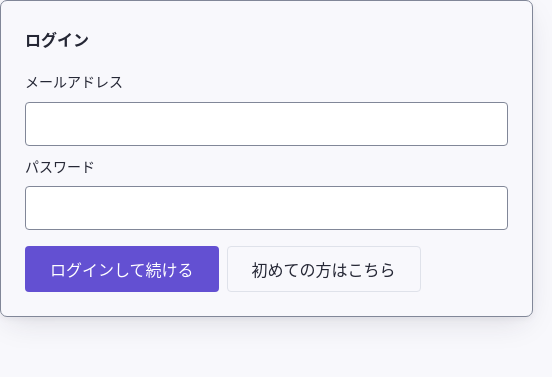
Scenario: AuthPanel › shows a generic failure without exposing provider or account-enumeration details
The width and height of the screenshot is (552, 377).
Type "private-person@example.com" into the field labelled "メールアドレス" at (266, 124), box [25,102,508,146]
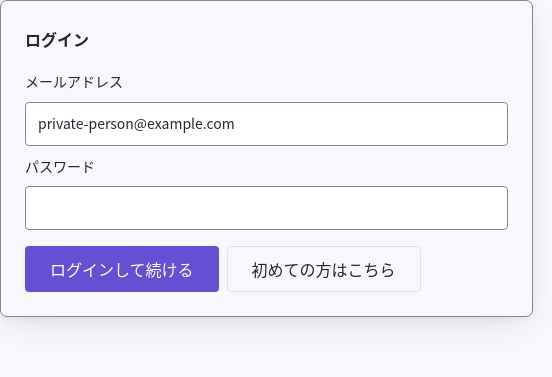
Type "wrong-password" into the password field labelled "パスワード" at (266, 208), box [25,186,508,230]
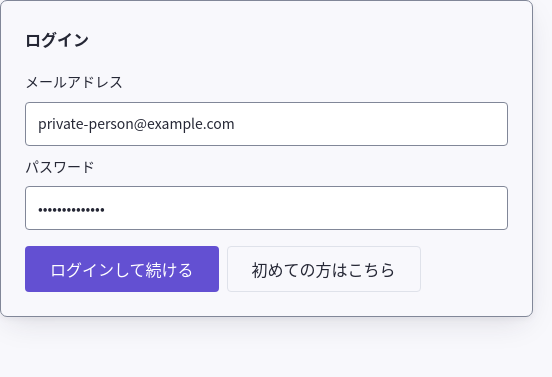
Click the button "ログインして続ける" at (122, 269), box [25,246,218,292]
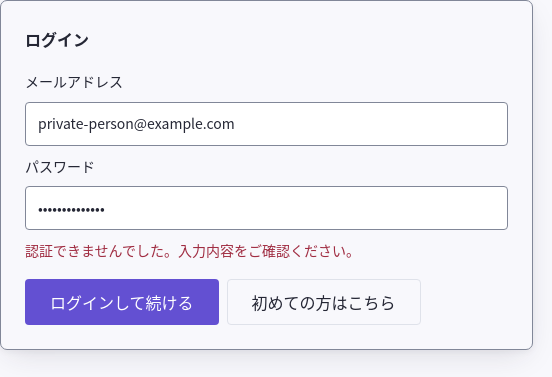
Check: the message reads "認証できませんでした。入力内容をご確認ください。", box [25,240,360,260]
